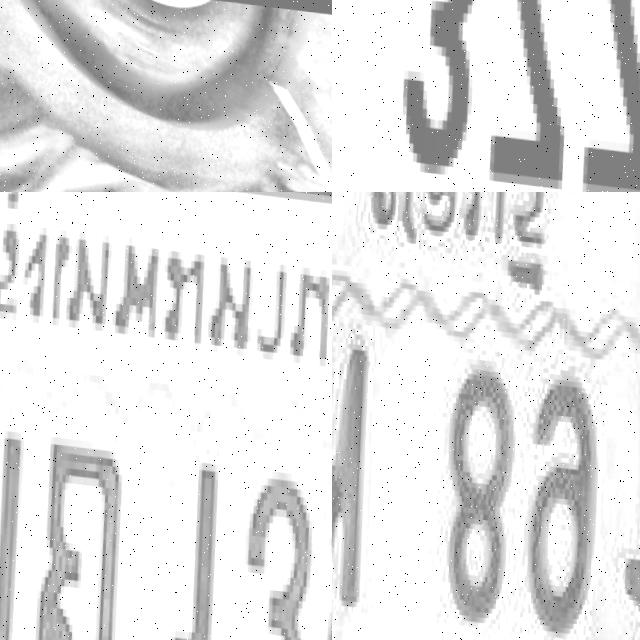license-plate: (0, 192, 332, 640), (332, 192, 640, 640), (332, 0, 640, 192)
